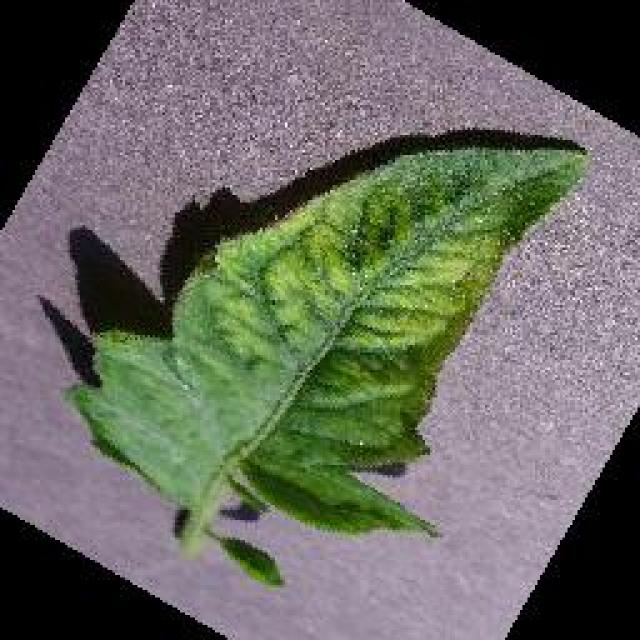Tomato___Tomato_mosaic_virus: (70, 142, 582, 582)
